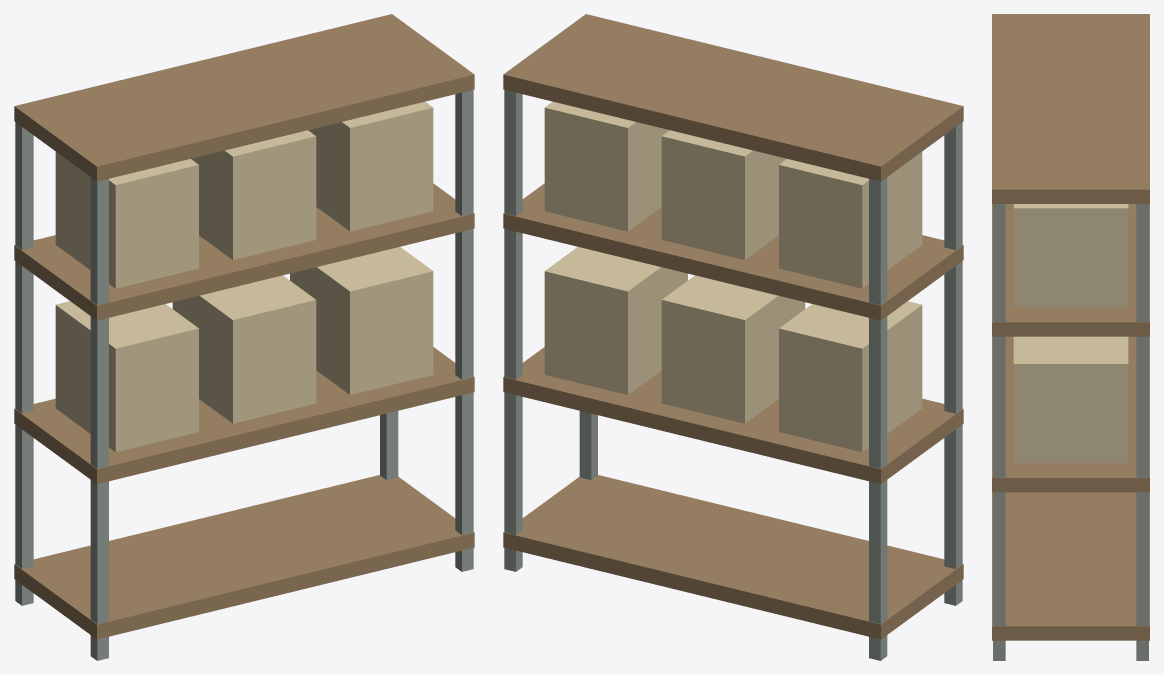
File: zoo-and-safari-park-builder-feed-store-shelving-bb011376__21516.glb
3 views of the same model, side by side, from view 1: azimuth 30°, elevation 25°; view 2: azimuth 150°, elevation 25°; view 3: azimuth 270°, elevation 25° (orthographic). The views are drawn at different scales.
Parts seen in each view (by area): view 1: feed-store-shelving; view 2: feed-store-shelving; view 3: feed-store-shelving.
Part boxes in pixels (x1,y1,x2,y2): feed-store-shelving: (14,14,474,660); feed-store-shelving: (503,14,963,660); feed-store-shelving: (992,14,1149,660).
Bounding box in the file's own units: 1.45 × 1.82 × 0.5501.
